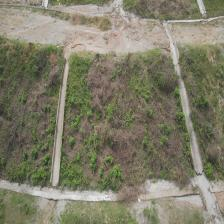slope_drain: (169, 47, 204, 176), (51, 59, 69, 188)
toe_drain: (0, 178, 224, 203)
